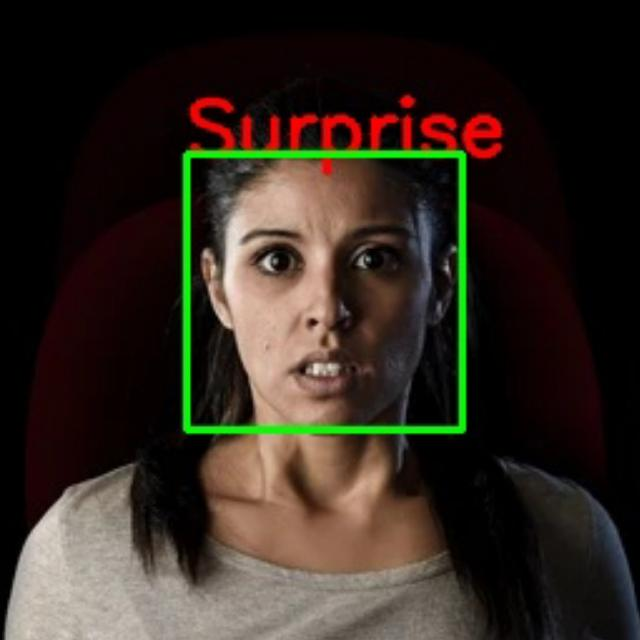Surprised: (193, 151, 463, 434)
